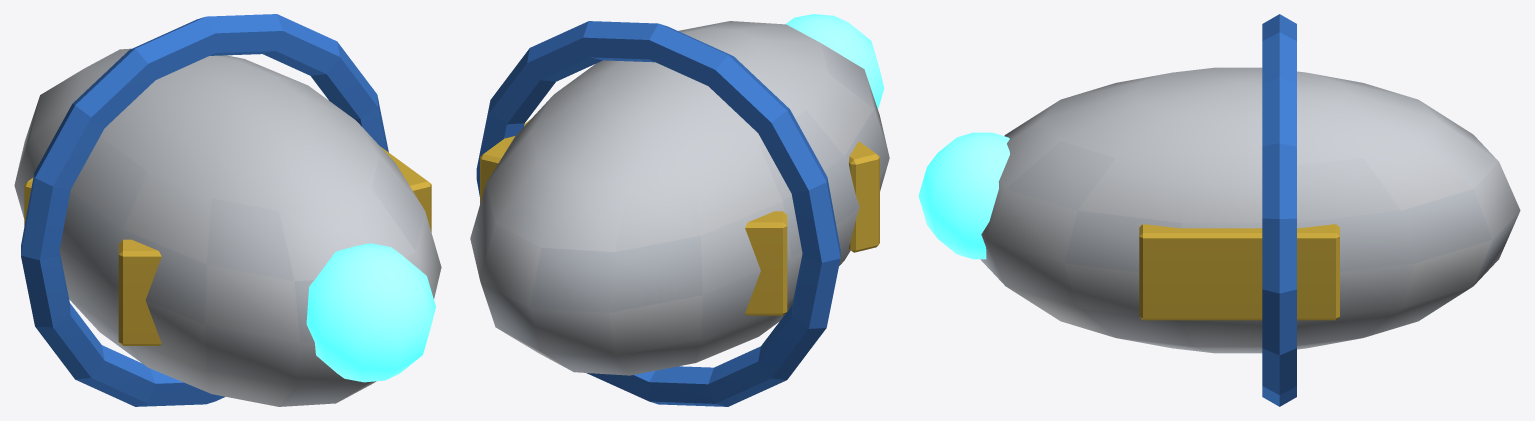
The model's file is espion.glb.
3 views of the same model, side by side, from view 1: azimuth 30°, elevation 25°; view 2: azimuth 150°, elevation 25°; view 3: azimuth 270°, elevation 25° (orthographic). The views are drawn at different scales.
Visible parts, largest first — view 1: espion; view 2: espion; view 3: espion.
Part boxes in pixels (x1,y1,x2,y2): espion: (14, 14, 441, 406); espion: (470, 14, 889, 406); espion: (918, 14, 1520, 406).
Size of the model in its own units: 0.49 by 0.49 by 0.75.
